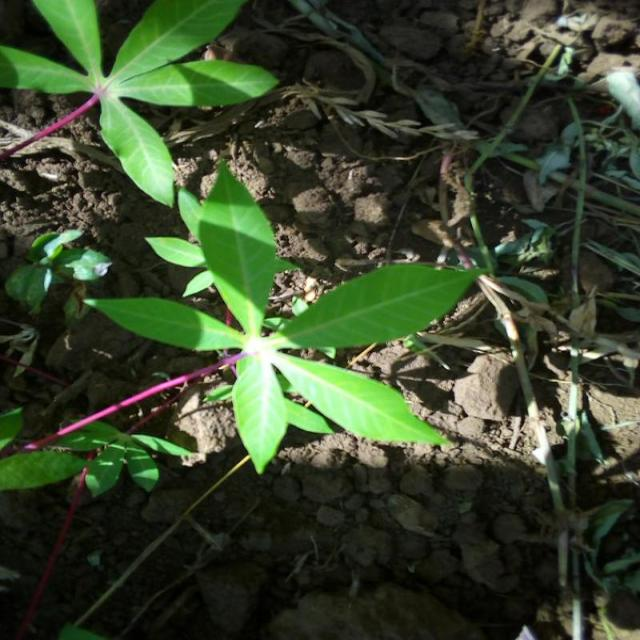cassava leaf: (81, 159, 486, 475), (0, 0, 279, 208), (272, 260, 487, 353), (197, 159, 277, 334)
